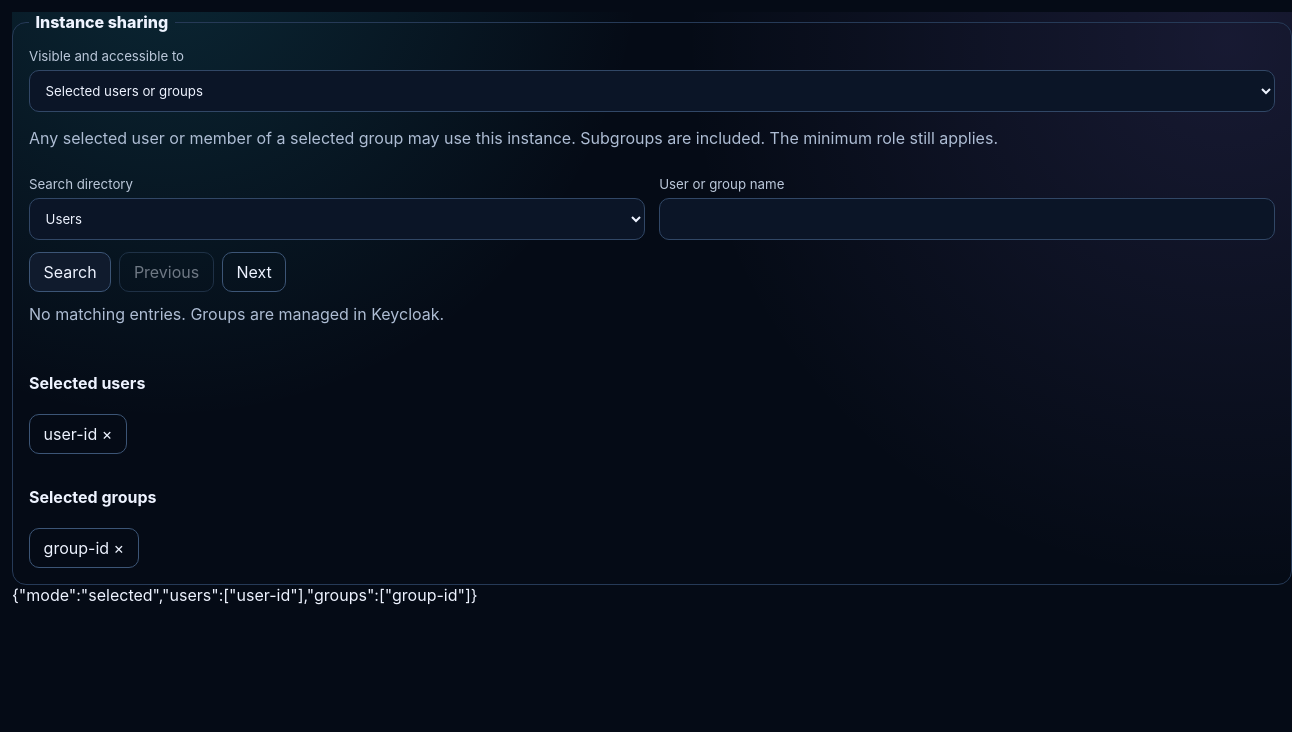
Scenario: targeted instance sharing › clears selected IDs when explicitly returning to all users
Select "All users with the required role" in the dropdown labelled "Visible and accessible to" at (652,91), box [29, 70, 1275, 112]
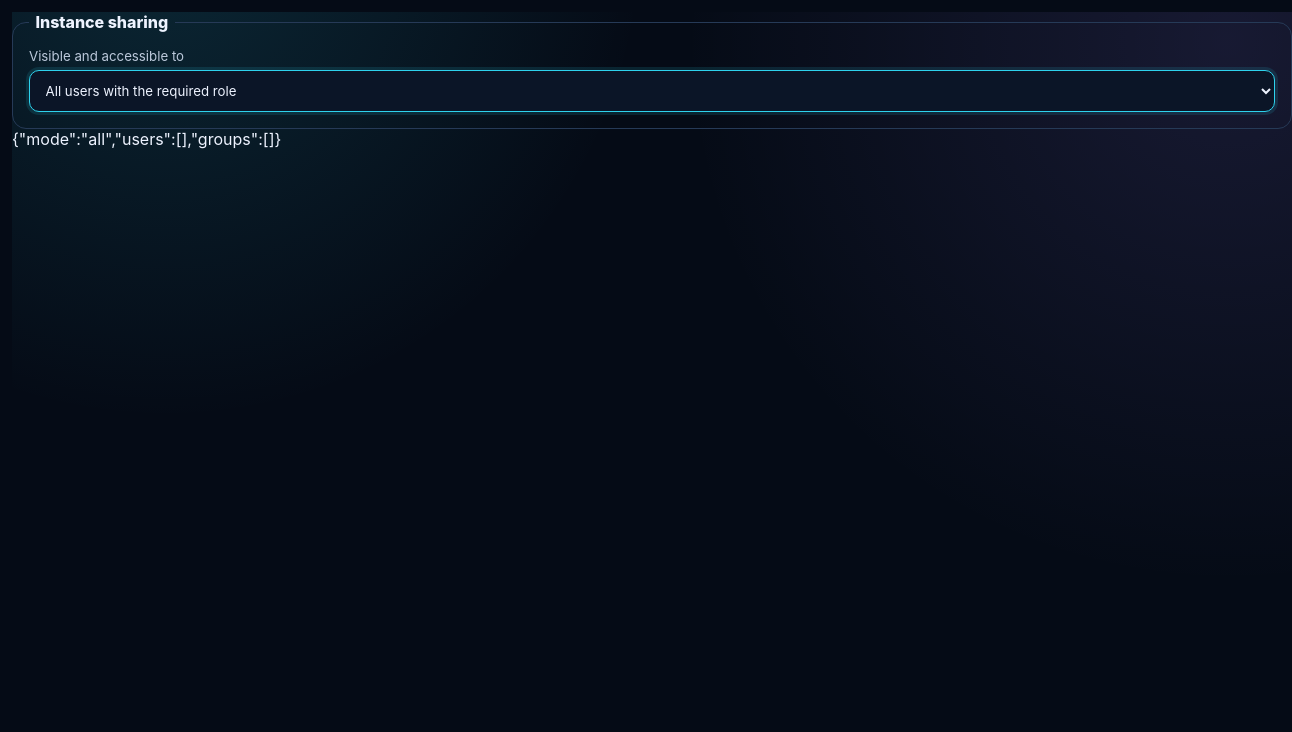
Expected: the text "{\"mode\":\"all\",\"users\":[],\"groups\":[]}" is shown, [12, 129, 281, 149]
